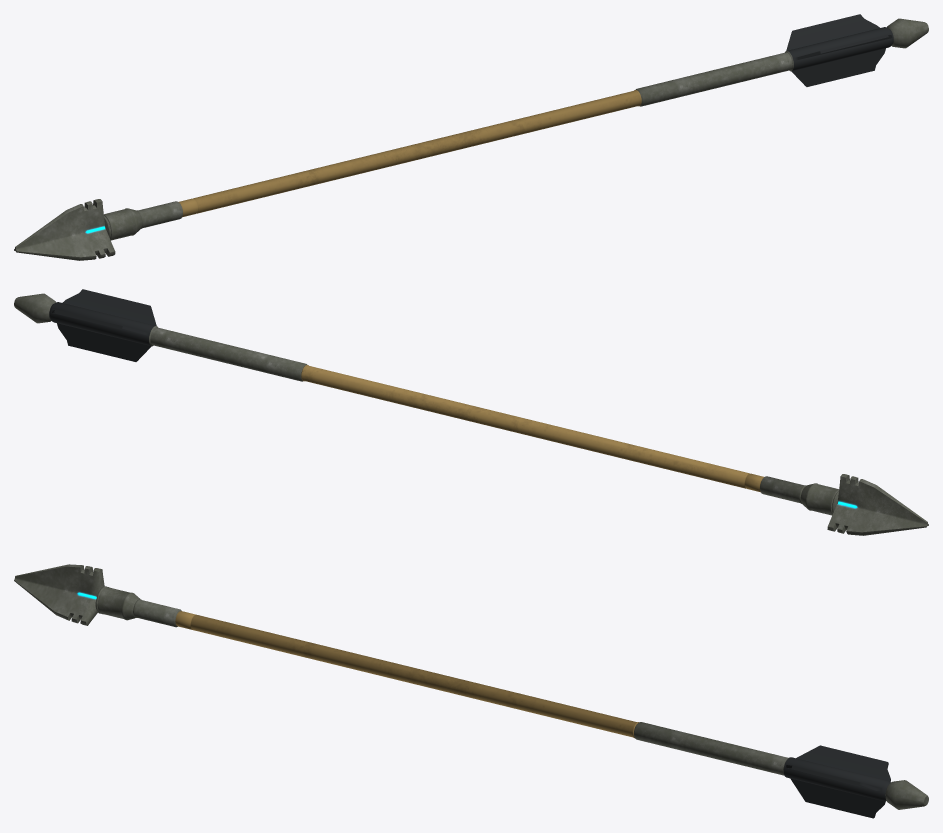
File: overwatch_-_hanzos_arrow.glb
3 renders of one model, top to bottom at view 1: azimuth 30°, elevation 25°; view 2: azimuth 150°, elevation 25°; view 3: azimuth 330°, elevation 25°, orthographic.
Parts seen in each view (by area): view 1: hanzo_arrow_LP__0; view 2: hanzo_arrow_LP__0; view 3: hanzo_arrow_LP__0.
Part boxes in pixels (x1,y1,x2,y2): hanzo_arrow_LP__0: (14, 14, 928, 260); hanzo_arrow_LP__0: (14, 289, 928, 535); hanzo_arrow_LP__0: (14, 564, 928, 818).
Bounding box in the file's own units: 225 × 14.17 × 12.54.
Materials: 1 (1 with a texture image).
